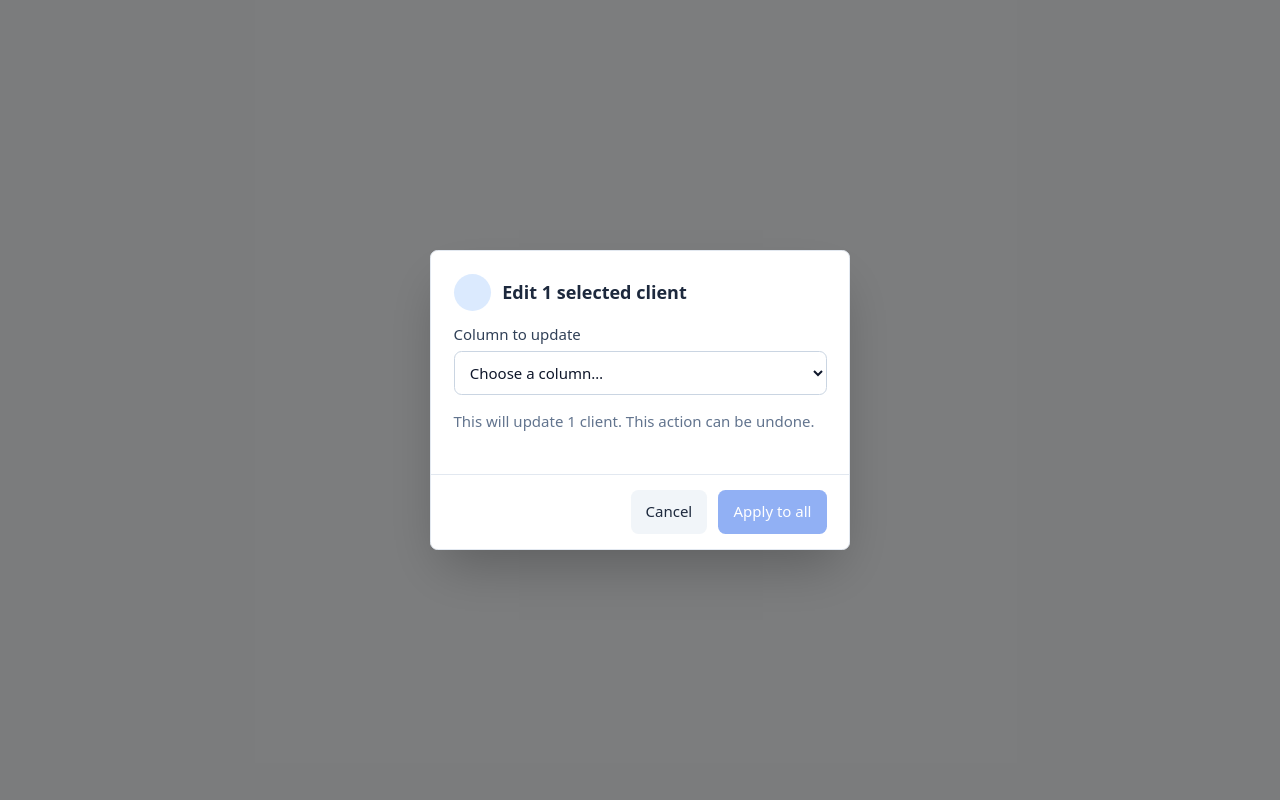
Test: BulkEditDialog › renders column selector and value input
Select "Name" in the dropdown labelled "Column to update". click: point(640, 373)
box: [454, 351, 826, 395]
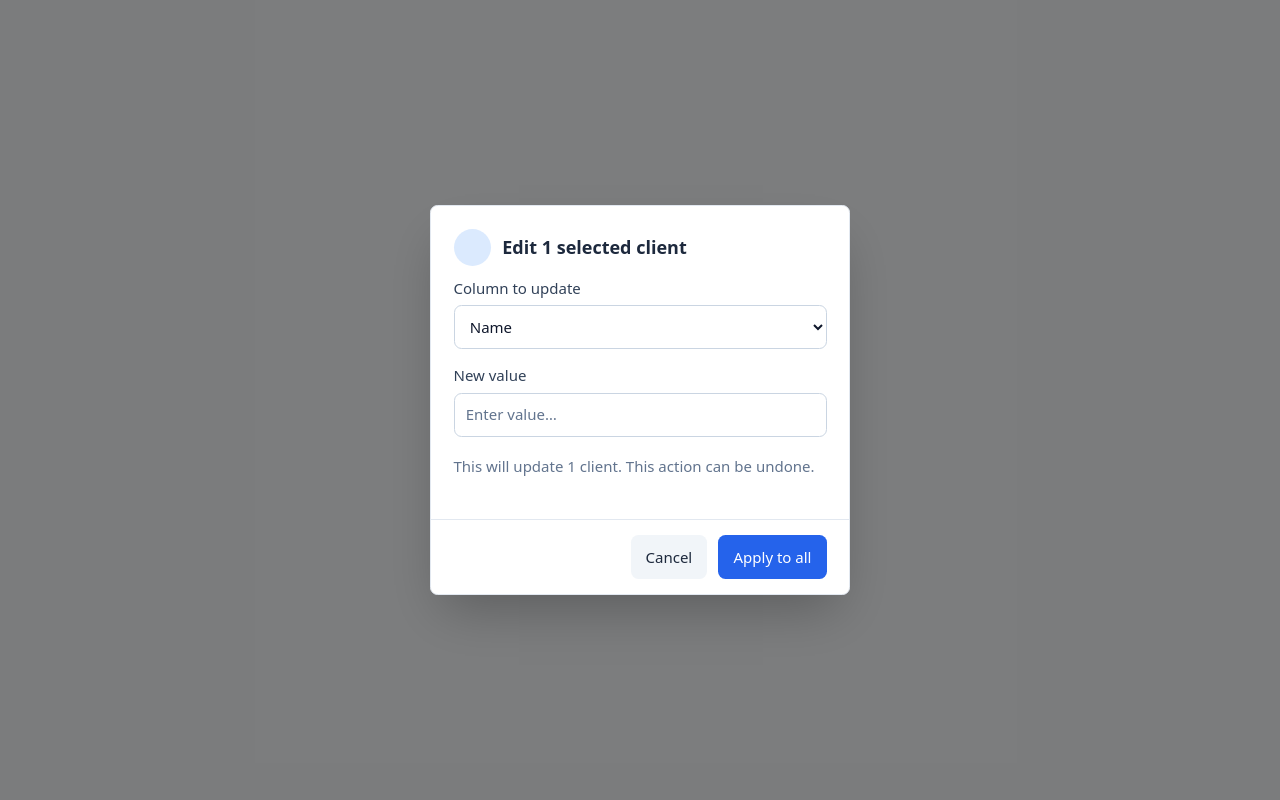
Expected: the field labelled "New value" is shown, [454, 392, 826, 436]
